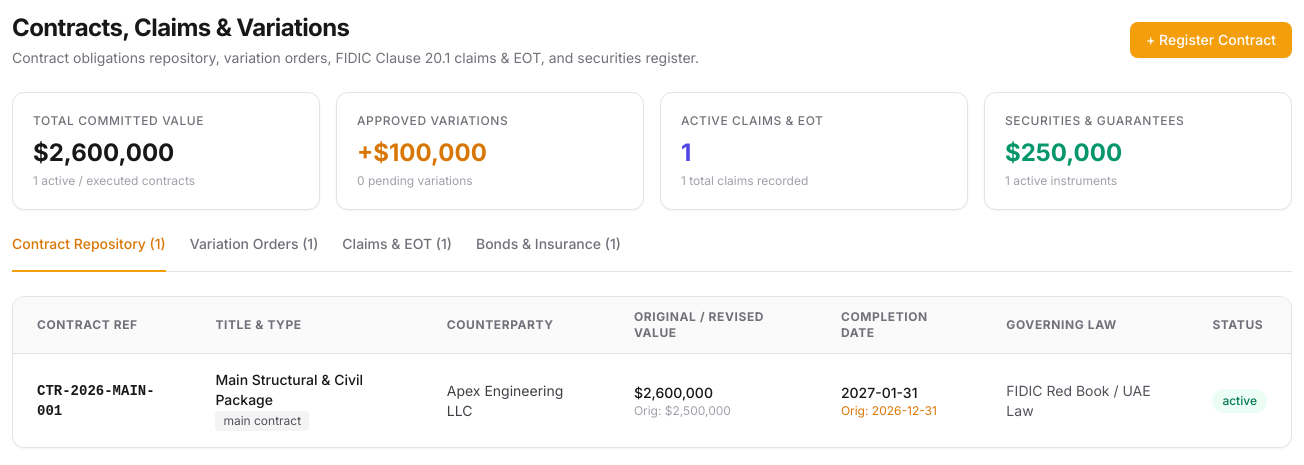
Test: M23: Contracts, Claims & Variations Page › switches to Variations tab and displays variation details
Click the button "Variation Orders (1)" at (254, 253), box left=190, top=234, right=318, bottom=272
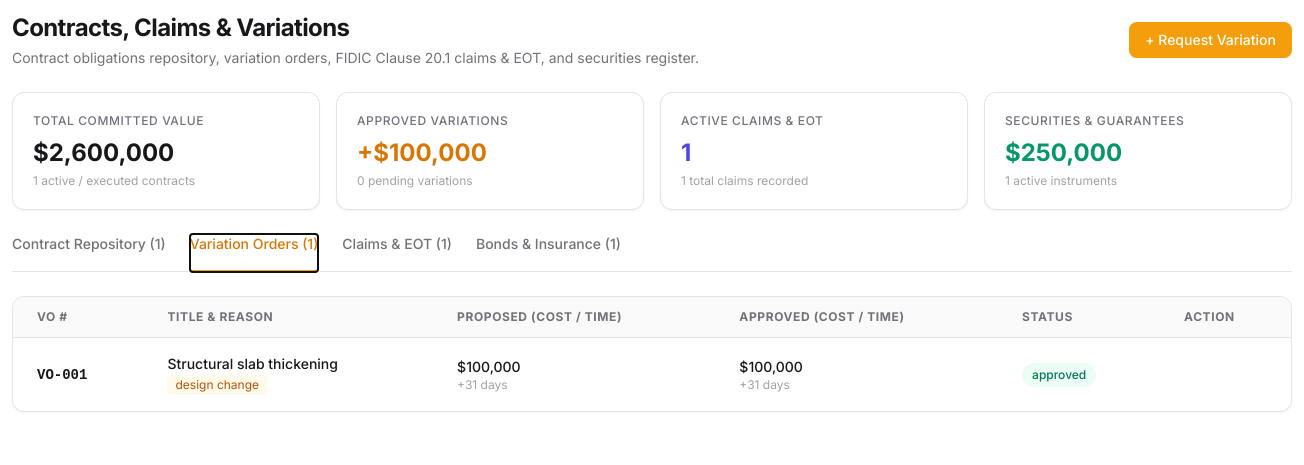
Result: the text "VO-001" is shown at left=13, top=338, right=144, bottom=411
Result: the text "Structural slab thickening" is shown at left=168, top=355, right=338, bottom=372
Result: the text "design change" is shown at left=168, top=375, right=267, bottom=395
